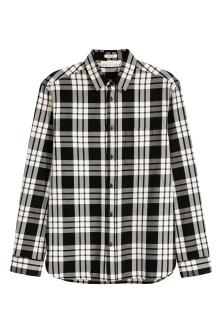teeshirt: (9, 45, 214, 285)
